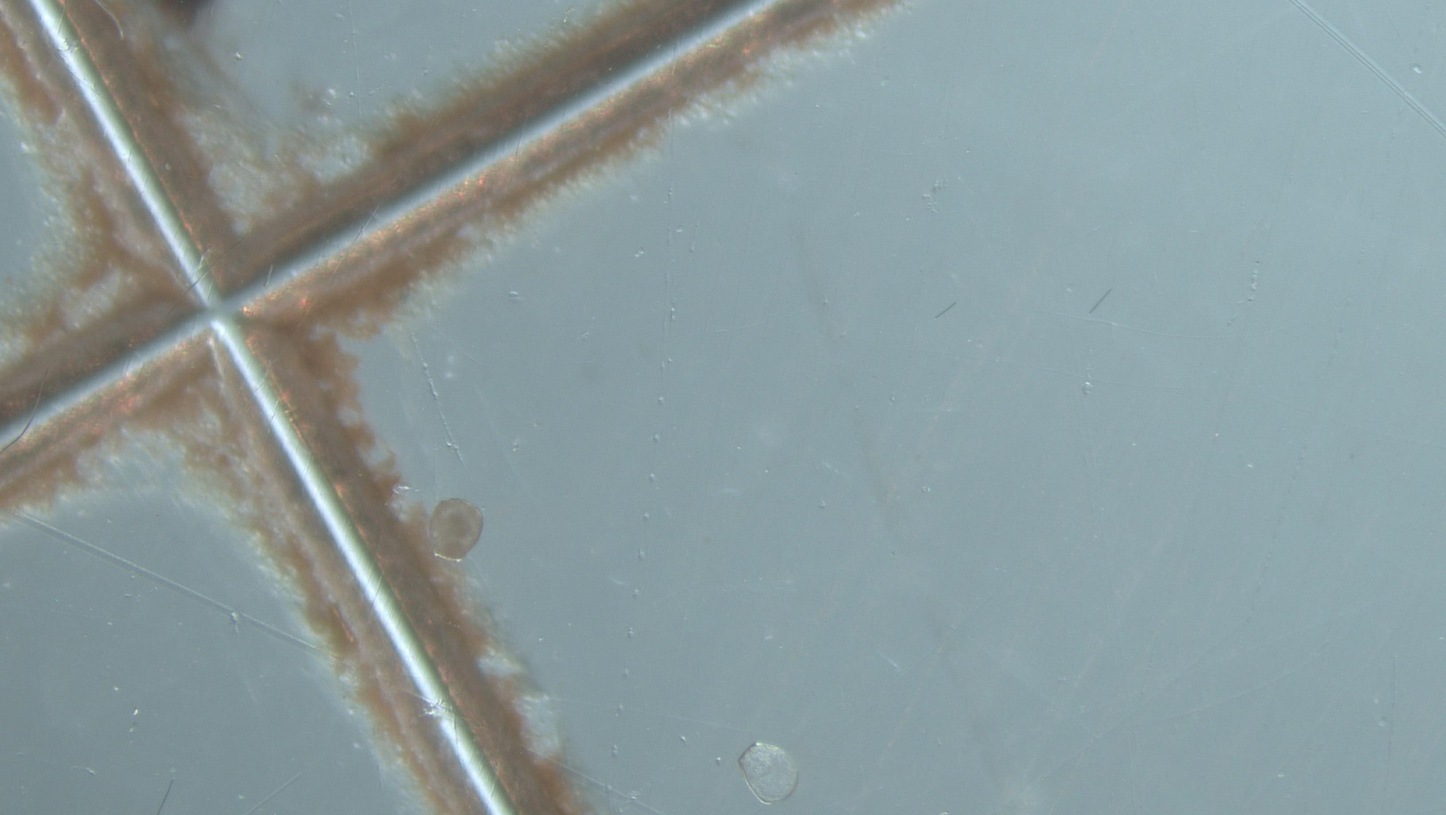dead: (739, 743, 797, 804), (427, 499, 483, 561)
